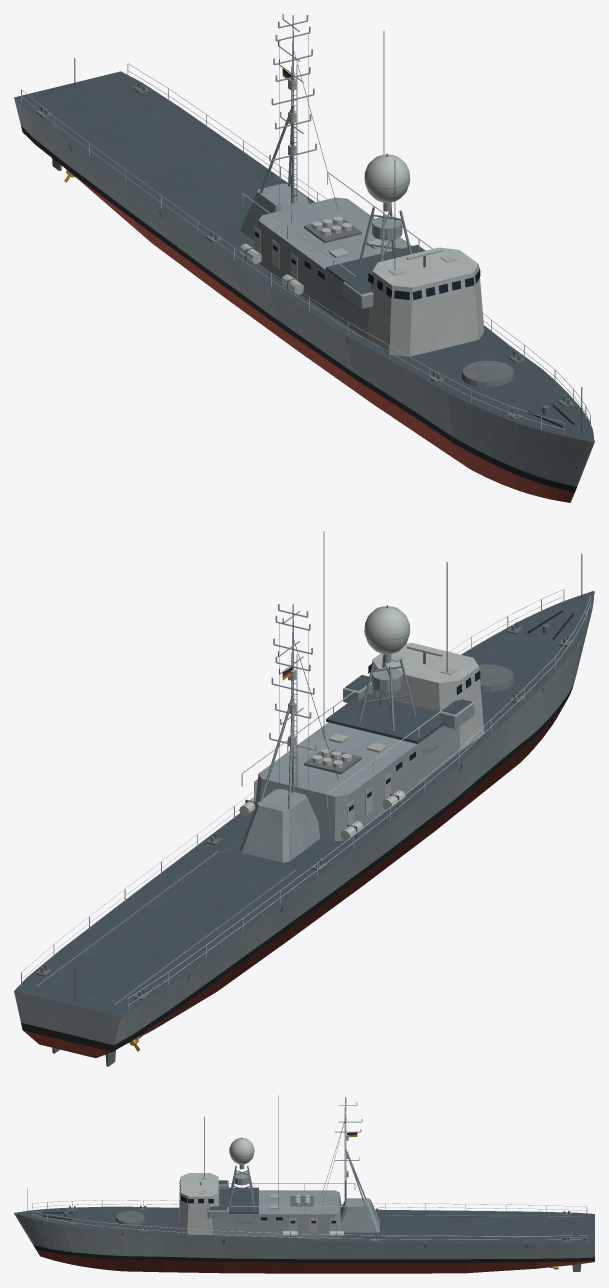
The model's file is hull_gepard.glb.
3 views of the same model, one above another, from view 1: azimuth 30°, elevation 25°; view 2: azimuth 150°, elevation 25°; view 3: azimuth 270°, elevation 25° (orthographic). The views are drawn at different scales.
Visible parts, largest first — view 1: MESH_GEPARD_HULL.006; view 2: MESH_GEPARD_HULL.006; view 3: MESH_GEPARD_HULL.006.
Boxes of the visible parts, x1,y1,x2,y2 form: MESH_GEPARD_HULL.006: [14, 14, 594, 502]; MESH_GEPARD_HULL.006: [14, 531, 594, 1066]; MESH_GEPARD_HULL.006: [14, 1095, 594, 1273].
Bounding box in the file's own units: 7.8 × 19.45 × 57.6.
1 material, 1 textured.
